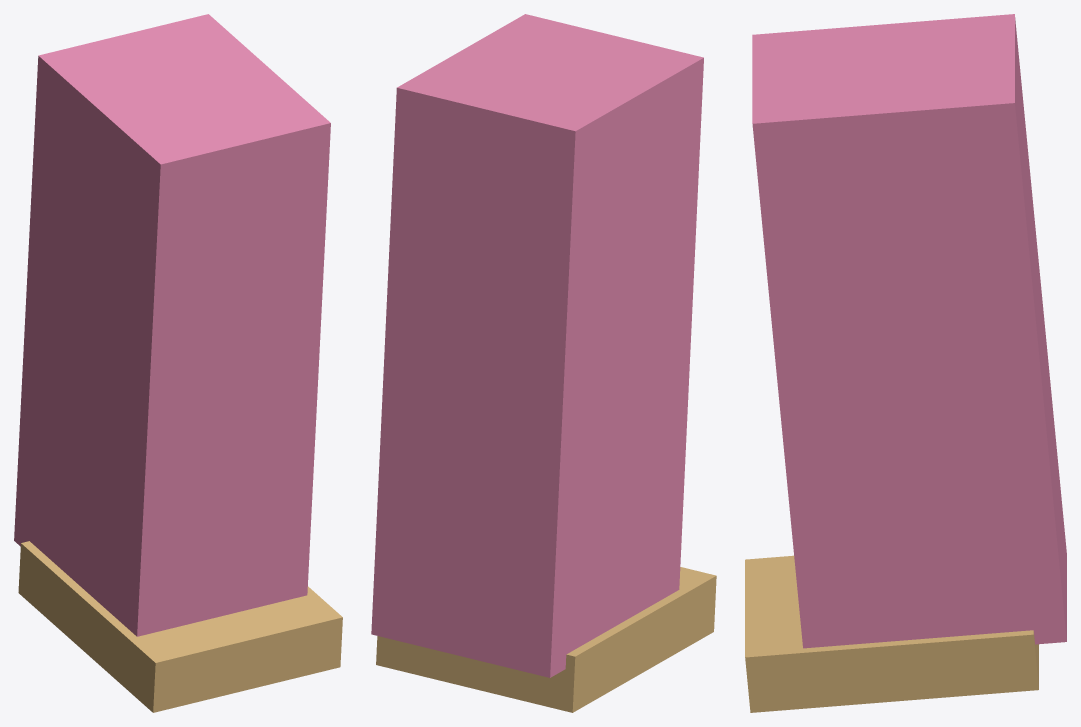
Rendered from HeavyRounds.obj.
The picture shows the model from 3 angles, left to right: view 1: azimuth 30°, elevation 25°; view 2: azimuth 150°, elevation 25°; view 3: azimuth 270°, elevation 25°; orthographic projection. The views are drawn at different scales.
Parts seen in each view (by area): view 1: HeavyRounds_Body, HeavyRounds_Detail; view 2: HeavyRounds_Body, HeavyRounds_Detail; view 3: HeavyRounds_Body, HeavyRounds_Detail.
Part boxes in pixels (x1,y1,x2,y2): HeavyRounds_Body: [14, 14, 330, 636]; HeavyRounds_Detail: [18, 541, 342, 712]; HeavyRounds_Body: [371, 14, 703, 677]; HeavyRounds_Detail: [376, 567, 716, 712]; HeavyRounds_Body: [752, 14, 1066, 648]; HeavyRounds_Detail: [745, 555, 1038, 712].
Size of the model in its own units: 0.132 by 0.3805 by 0.1832.
